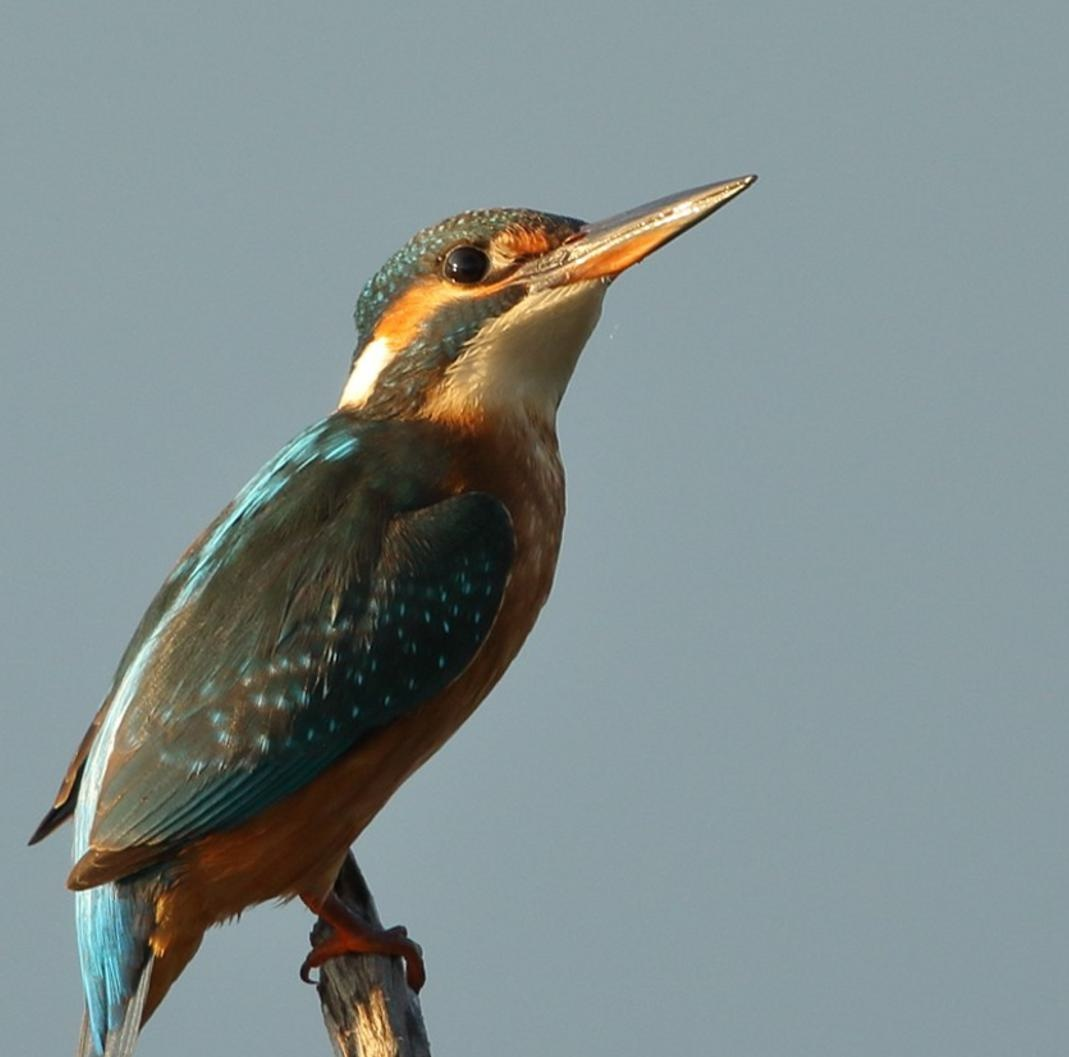kingfisher: (39, 154, 767, 1046)
